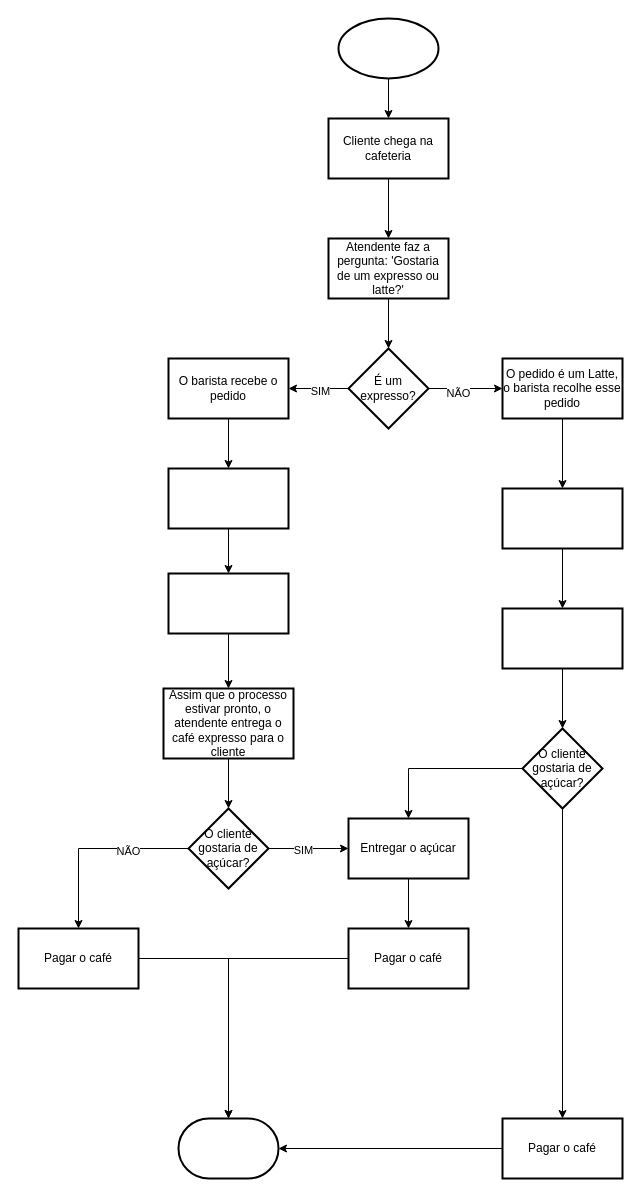
The diagram is 640 pixels wide and 1196 high, and some of its shapes have lost their labels. The shapes that lost their labels are listed below. From the top down, each one's box as (x1, y1, x2, y2) in pixels, then its label:
(337, 17, 439, 79): Início
(167, 467, 289, 529): O barista coloca o pó de café na máquina
(501, 487, 623, 549): O barista coloca o café e o leite aerado em uma xícara
(167, 572, 289, 634): Posiciona a xícara do expresso e liga a máquina
(501, 607, 623, 669): Com o pedido pronto o atendente entrega o Latte para o cliente
(177, 1117, 279, 1179): Fim
